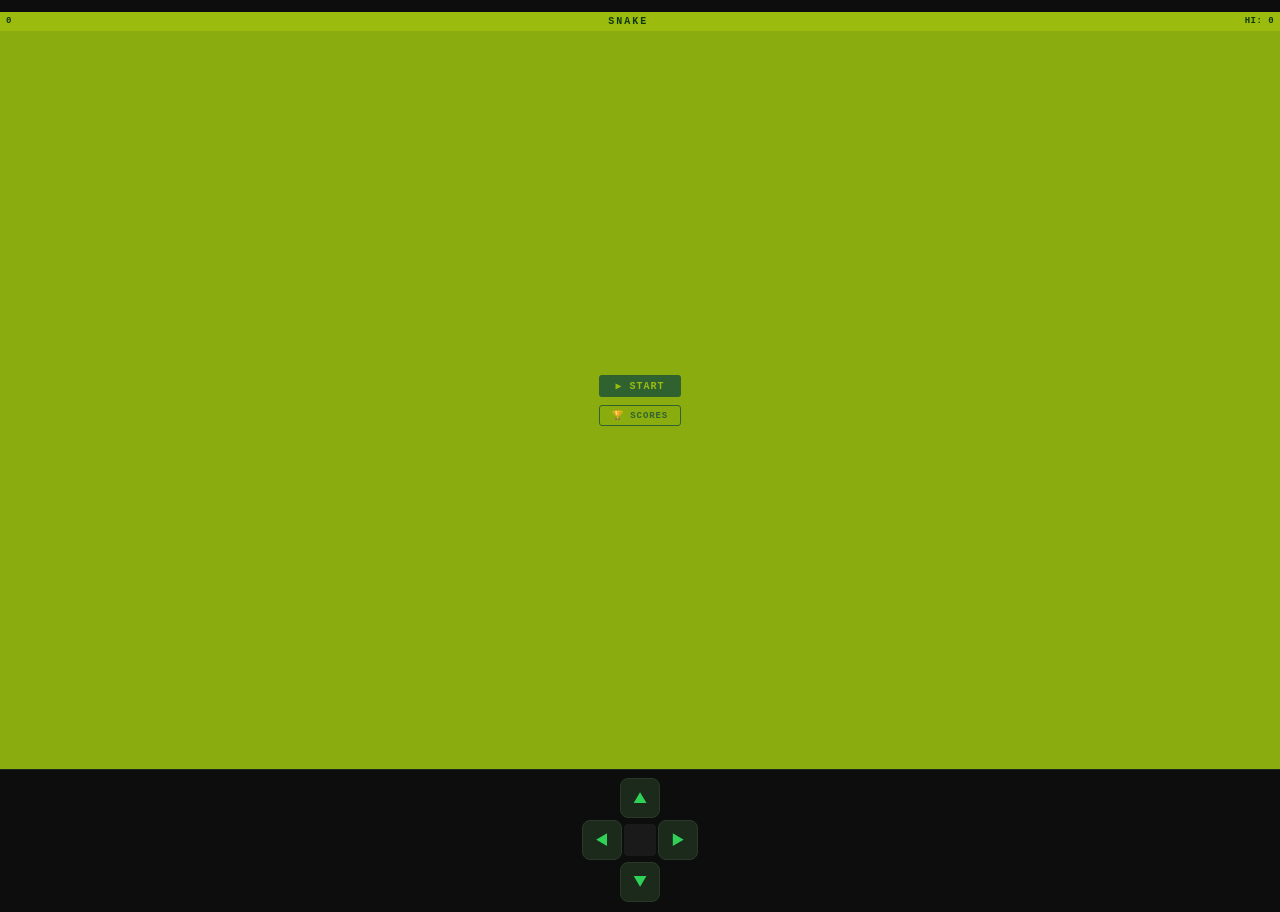
Test case: SnakeApp leaderboard › opens scores and returns to the start screen with a single Back button
The width and height of the screenshot is (1280, 912).
Click the button "🏆 SCORES" at [640, 415], box [599,404,681,426]
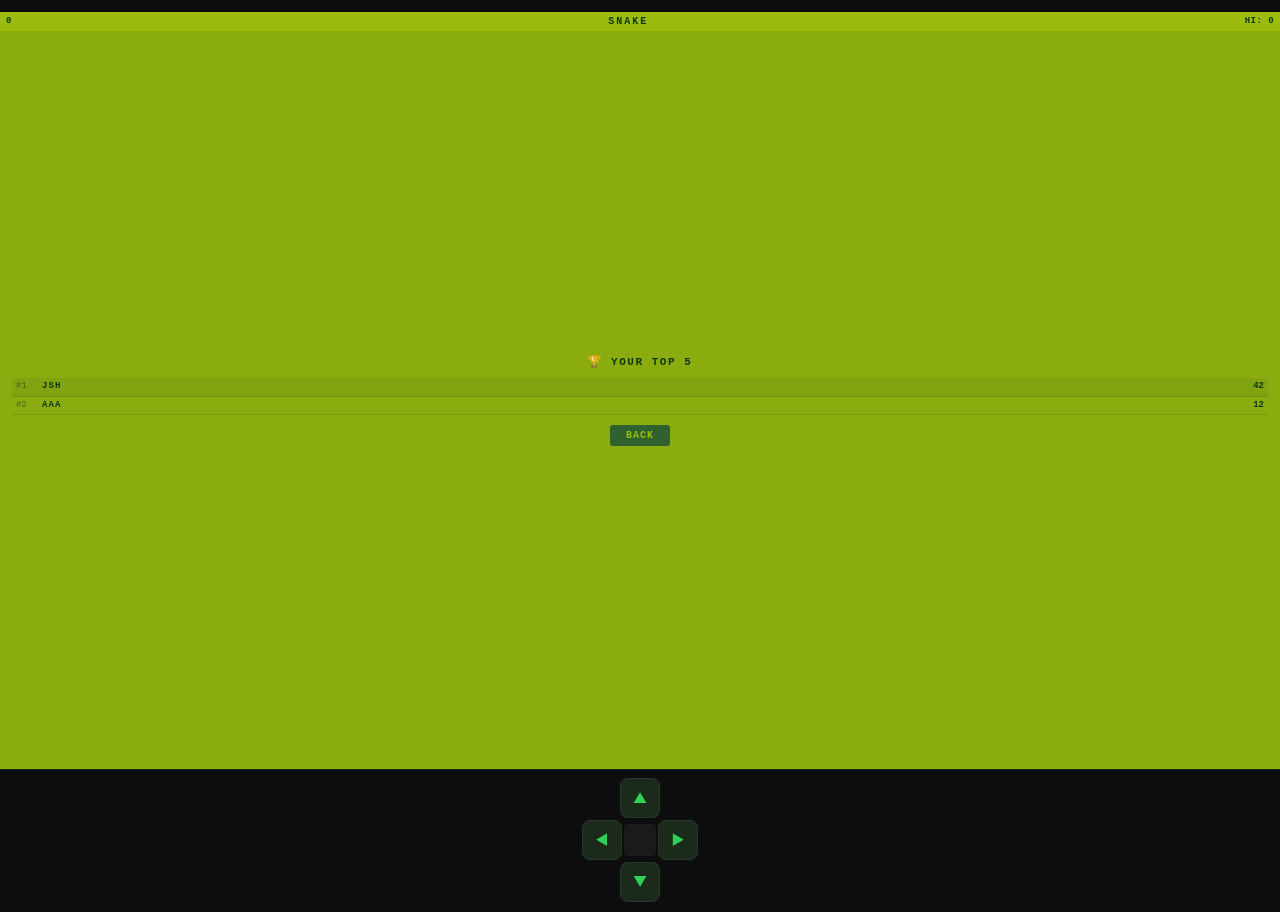
Expected: the text "JSH" is shown, [42,381,62,391]
Expected: the text "42" is shown, [1253,380,1264,394]
Click the button "BACK" at [640, 436], box [610,425,670,446]
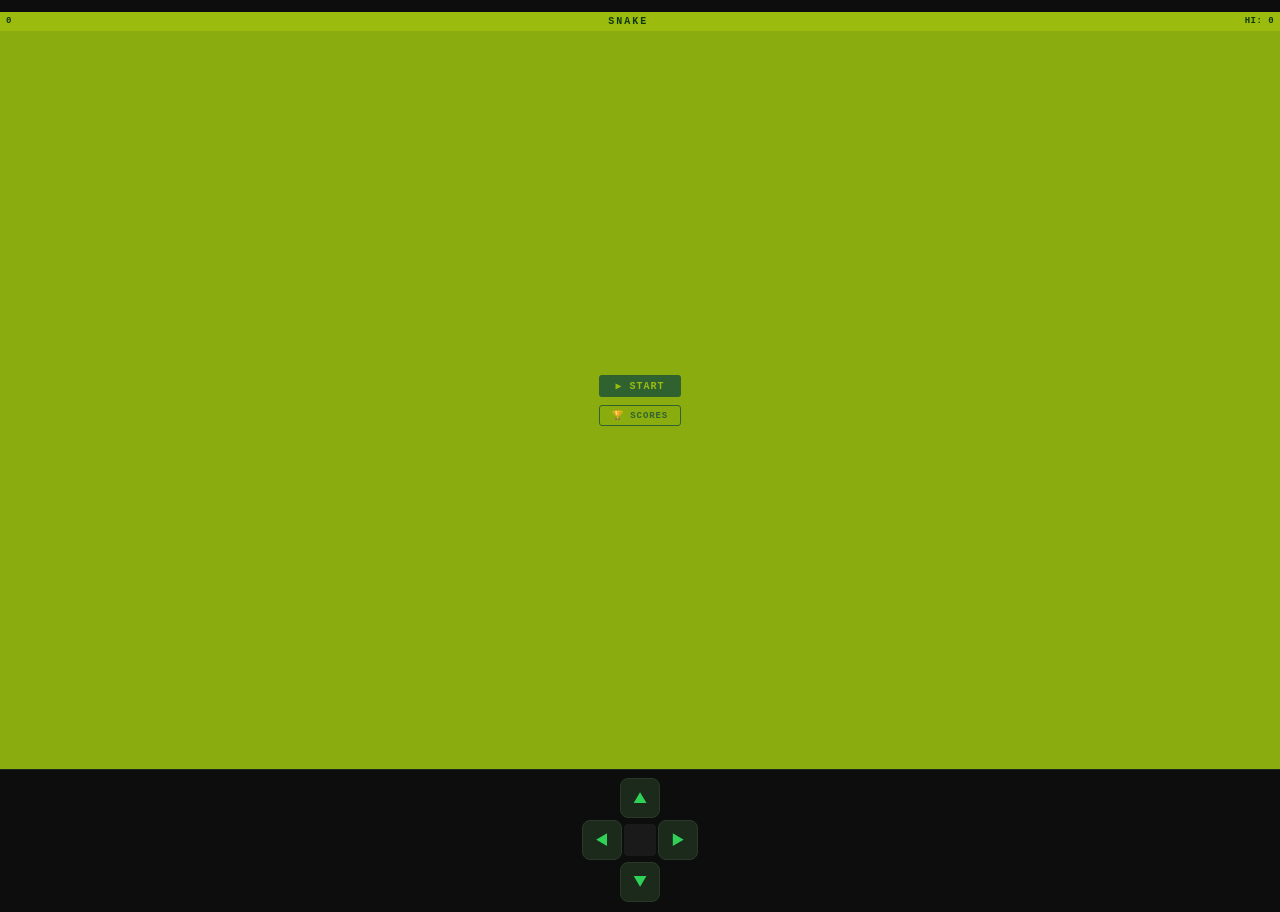
Expected: the button "▶ START" is shown, [600,374,680,396]
Expected: the button "🏆 SCORES" is shown, [599,404,681,426]
